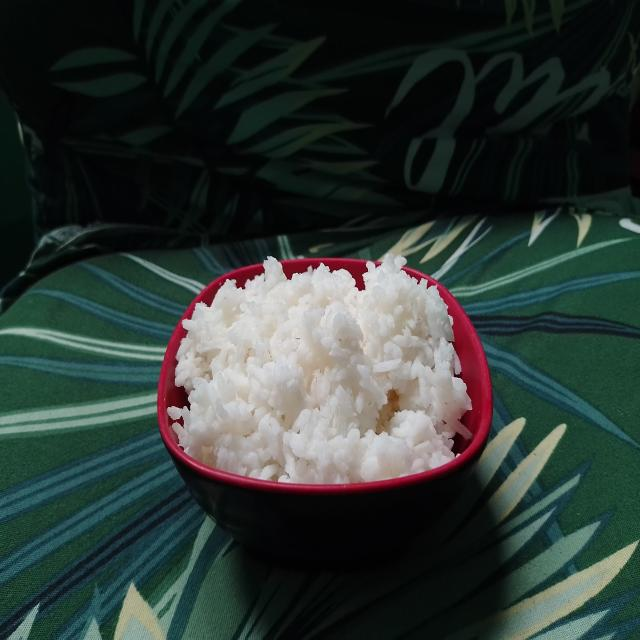Chicken -Chicken Inasal-: (181, 249, 455, 479)
